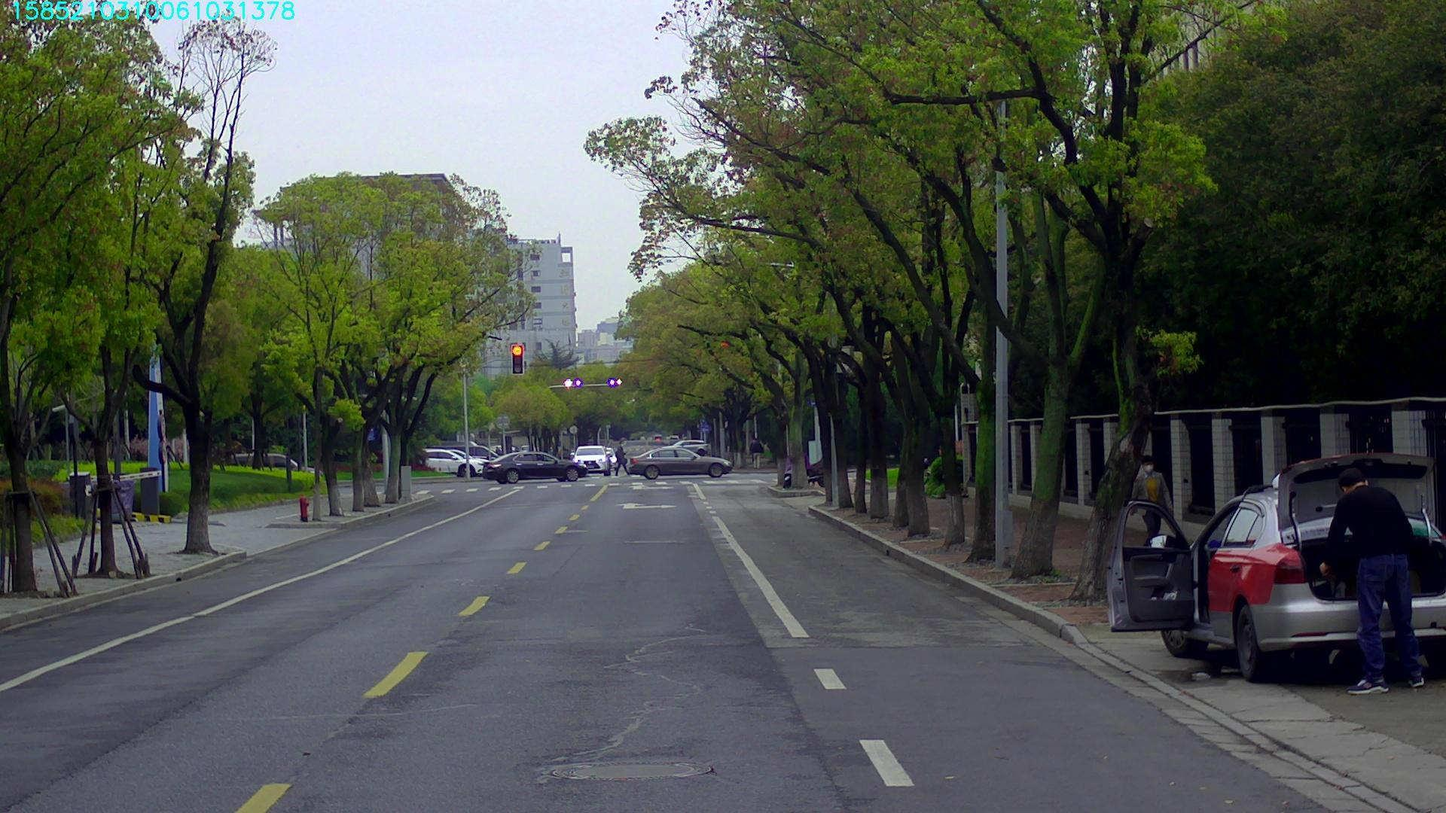red: (511, 345, 523, 373)
